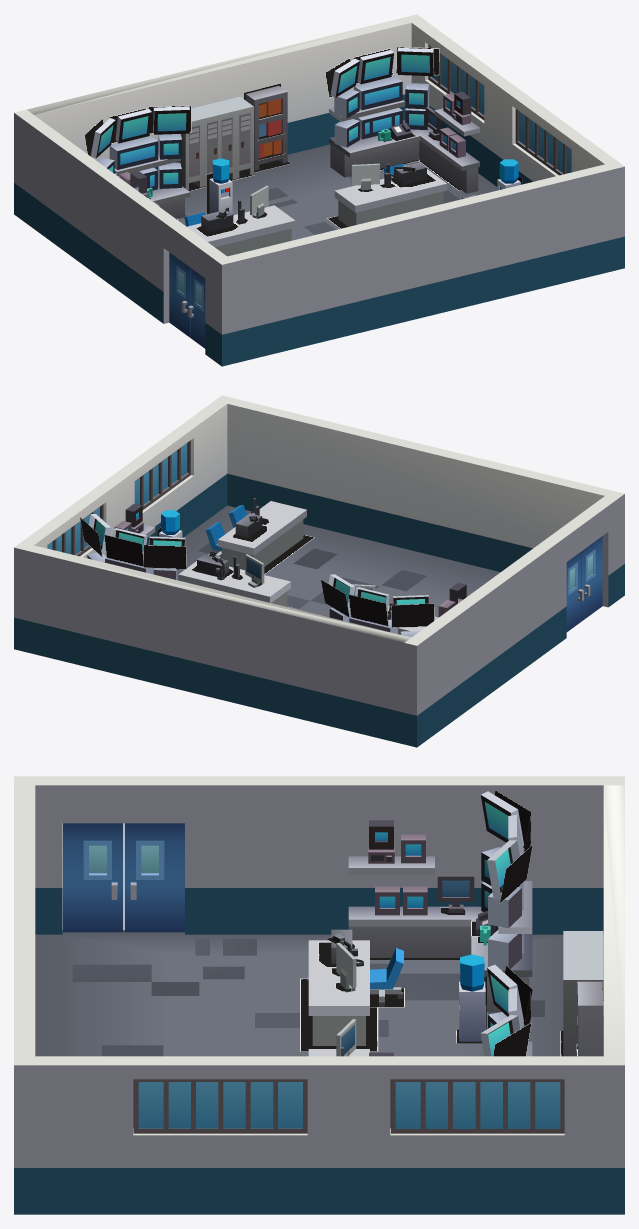
Rendered from camera room.fbx.
3 renders of one model, top to bottom at view 1: azimuth 30°, elevation 25°; view 2: azimuth 150°, elevation 25°; view 3: azimuth 270°, elevation 25°, orthographic. The views are drawn at different scales.
Visible parts, largest first — view 1: wall, asset, door; view 2: wall, asset, door; view 3: wall, asset, door.
Boxes of the visible parts, <box> form: wall: <box>14,14,624,366</box>; asset: <box>84,45,571,256</box>; door: <box>169,252,205,348</box>; wall: <box>14,395,624,747</box>; asset: <box>47,440,466,637</box>; door: <box>566,536,602,631</box>; wall: <box>14,776,624,1214</box>; asset: <box>133,789,603,1133</box>; door: <box>63,823,184,932</box>.
Size of the model in its own units: 1116 by 998 by 294.
Materials: 2 (2 with a texture image).
